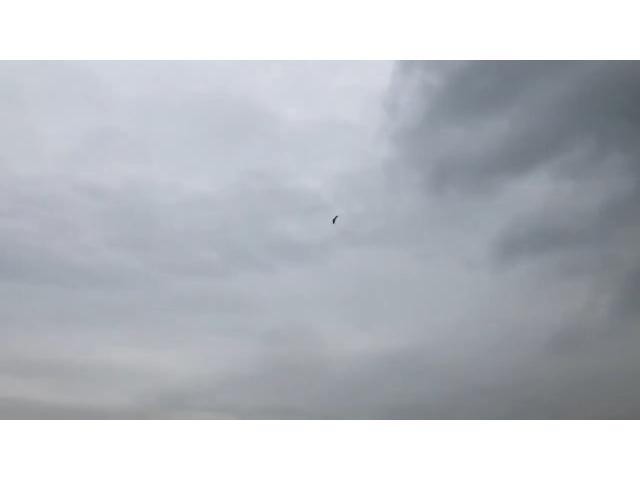Anti-Drone: (319, 208, 345, 226)
